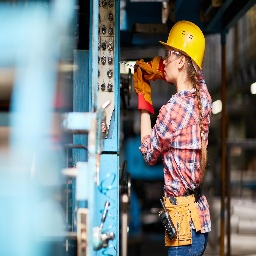helmet: (160, 25, 207, 69)
no-vest: (160, 89, 209, 197)
person: (137, 23, 216, 256)
